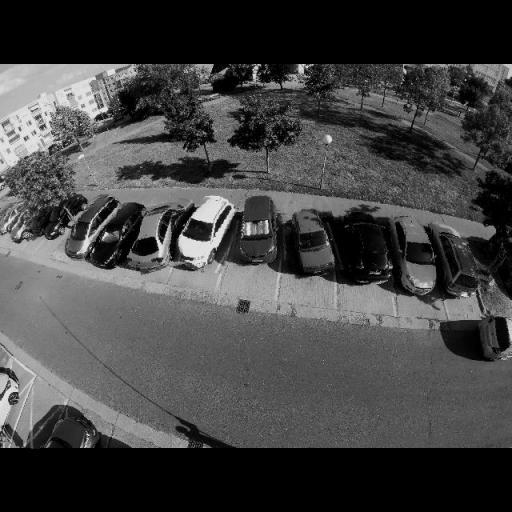busy: (170, 194, 233, 273), (282, 205, 344, 280), (386, 218, 443, 296), (230, 193, 286, 266), (342, 212, 397, 286), (128, 204, 182, 273), (65, 194, 116, 265), (432, 227, 483, 296), (88, 202, 141, 268), (30, 403, 101, 448), (30, 201, 76, 241), (477, 310, 512, 361), (0, 370, 18, 436), (0, 204, 27, 242)
